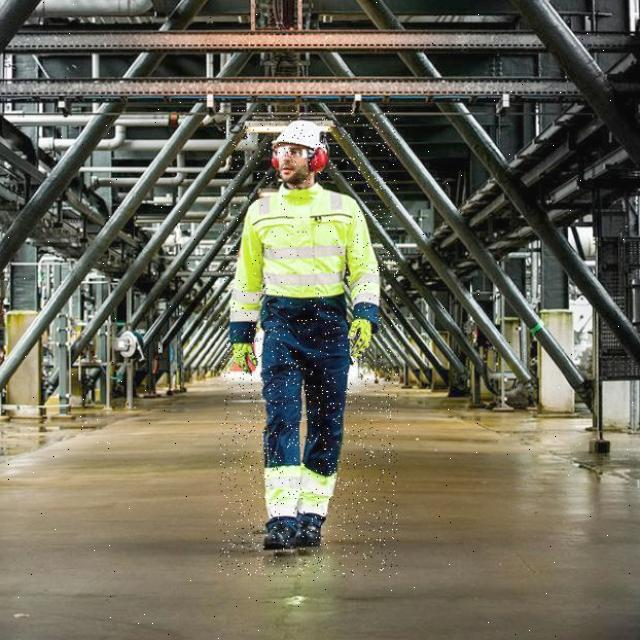Earmuffs: (307, 147, 328, 172), (271, 149, 283, 170)
Gloves: (343, 315, 367, 355), (226, 342, 250, 371)
Hardhat: (274, 121, 328, 172)
No Overall Suit: (230, 184, 379, 322)
Safety Boots: (264, 513, 325, 550)
